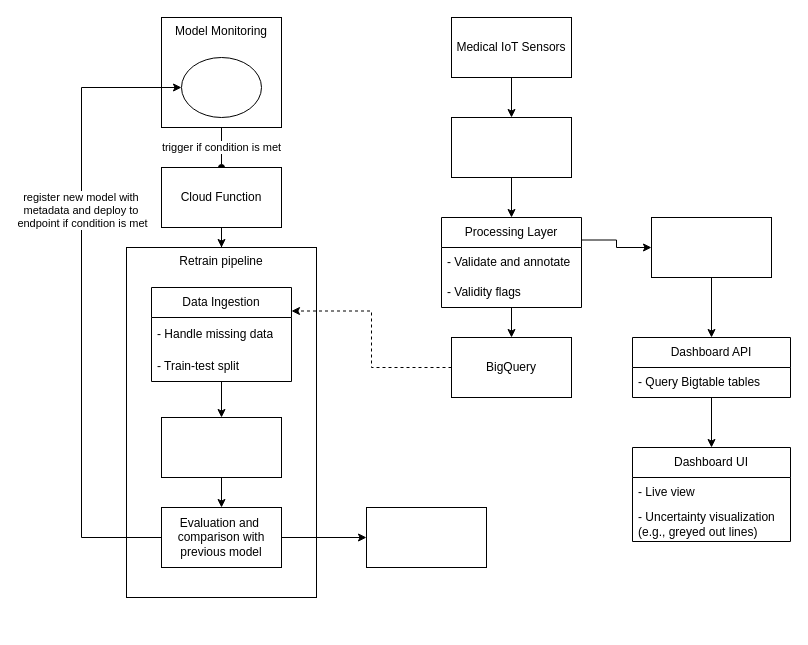
Some shapes in this 808 by 645 pixel diagram are drawn without their labels. The shapes that lost their labels are listed below. From the top down, each one's centre as x and y in pixels, then its label:
[221,87]: Model Endpoint
[511,147]: Streaming Ingest (ts, HR, body temp., SpO2)
[711,247]: Bigtable
[221,447]: Model training or fine-tuning
[426,537]: Save model metrics
